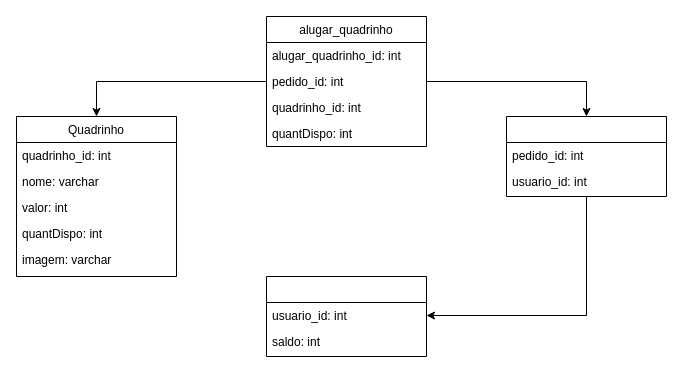
This 683x373 diagram has some shape labels left out. The box of each missing label's shape, as (x1, y1, x2, y2) in pixels:
alugados: (506, 116, 666, 196)
usuarios: (266, 276, 426, 356)
